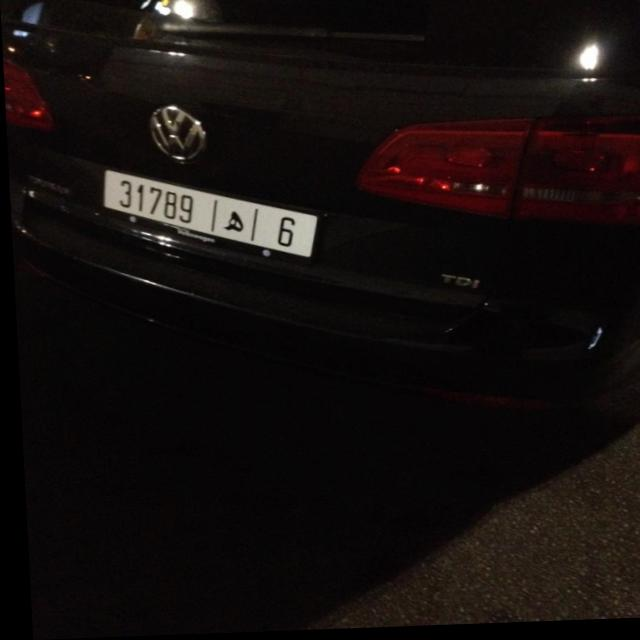License-Plate: (101, 171, 315, 260)
